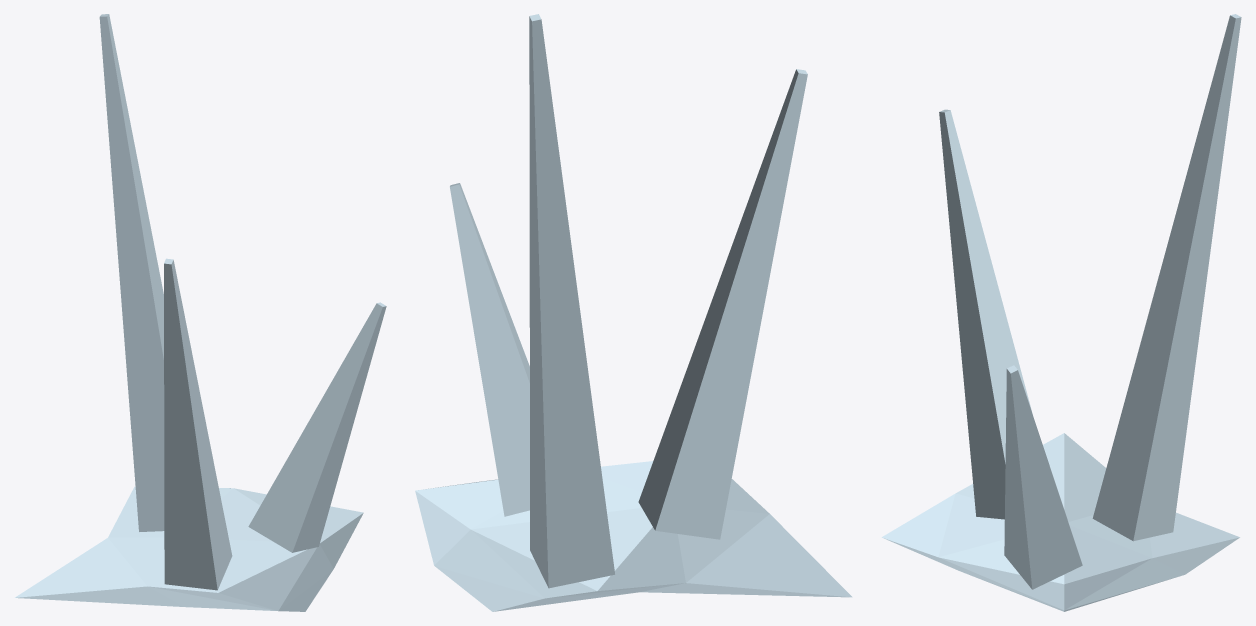
Rendered from ice_shard_v21.glb.
The picture shows the model from 3 angles, left to right: view 1: azimuth 30°, elevation 25°; view 2: azimuth 150°, elevation 25°; view 3: azimuth 270°, elevation 25°; orthographic projection. The views are drawn at different scales.
Parts seen in each view (by area): view 1: lod0; view 2: lod0; view 3: lod0.
Boxes of the visible parts, x1,y1,x2,y2 form: lod0: (15,14,386,611); lod0: (415,14,852,611); lod0: (881,14,1241,611).
Size of what is drawn, in the model's own units: 0.7229 by 1.04 by 0.6145.
